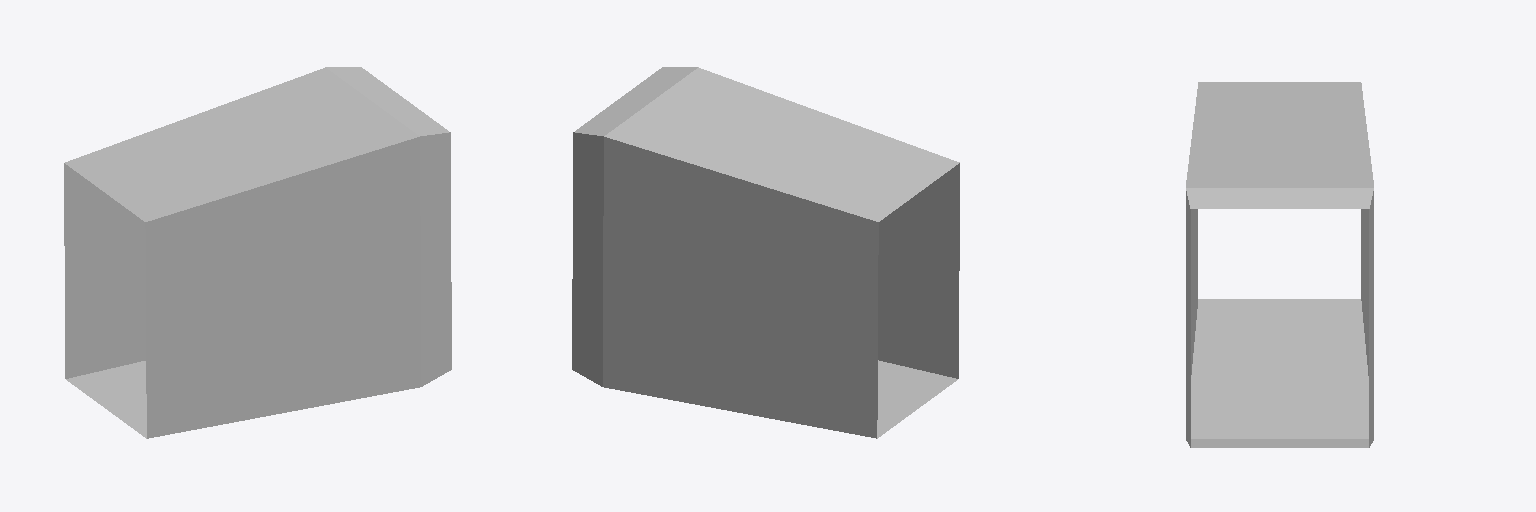
Rendered from Rat_Tail8.obj.
The picture shows the model from 3 angles: view 1: azimuth 30°, elevation 25°; view 2: azimuth 150°, elevation 25°; view 3: azimuth 270°, elevation 25°; orthographic projection.
Parts seen in each view (by area): view 1: Rat_Tail.008; view 2: Rat_Tail.008; view 3: Rat_Tail.008.
Boxes of the visible parts, x1,y1,x2,y2 form: Rat_Tail.008: [64, 67, 451, 438]; Rat_Tail.008: [572, 67, 959, 438]; Rat_Tail.008: [1186, 82, 1373, 447].
Size of the model in its own units: 0.0314 by 0.0248 by 0.0169.